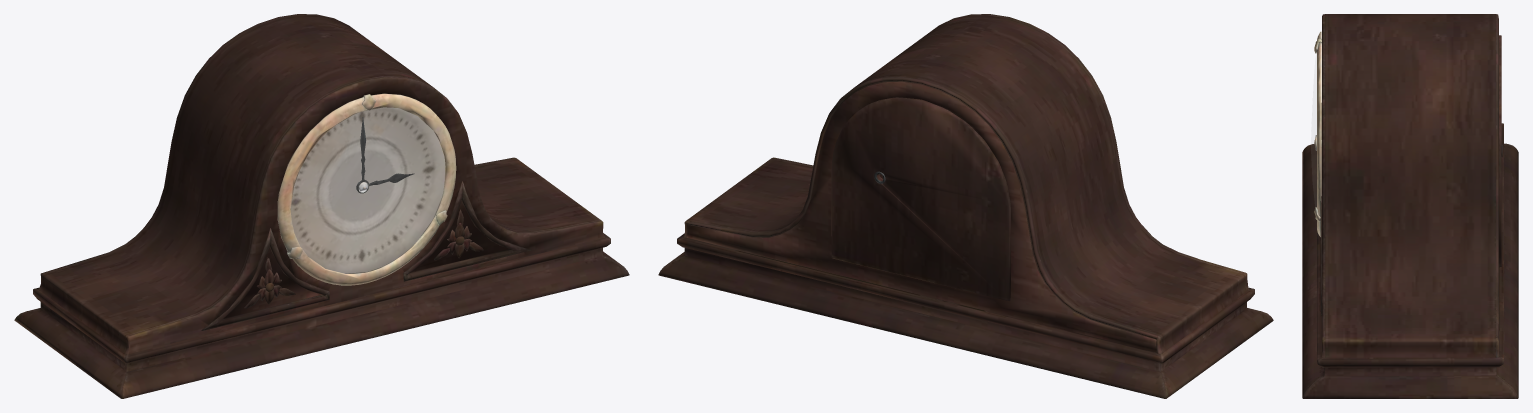
File: mantel_clock_01.glb
3 renders of one model, left to right at view 1: azimuth 30°, elevation 25°; view 2: azimuth 150°, elevation 25°; view 3: azimuth 270°, elevation 25°, orthographic.
Parts seen in each view (by area): view 1: mantel_clock_01; view 2: mantel_clock_01; view 3: mantel_clock_01.
Boxes of the visible parts, x1=… form: mantel_clock_01: x1=14, y1=14, x2=629, y2=398; mantel_clock_01: x1=658, y1=14, x2=1273, y2=398; mantel_clock_01: x1=1302, y1=14, x2=1518, y2=398.
Size of the model in its own units: 0.342 by 0.1604 by 0.1261.
2 materials, 1 textured.
